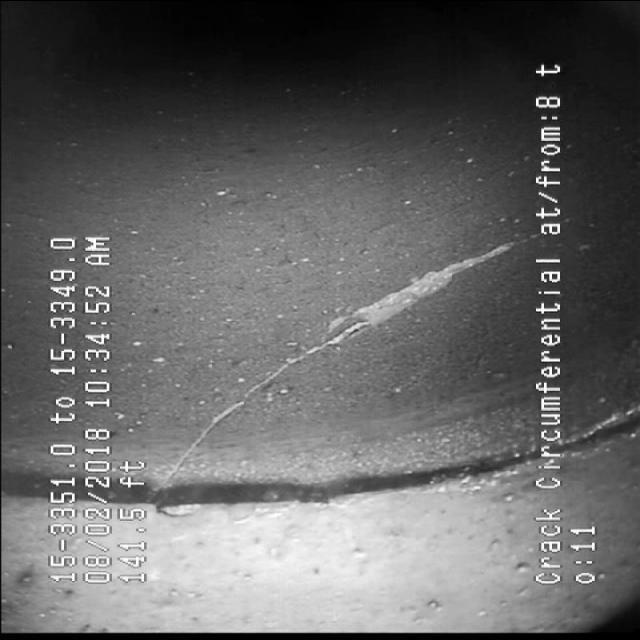Crack: (174, 242, 480, 454)
